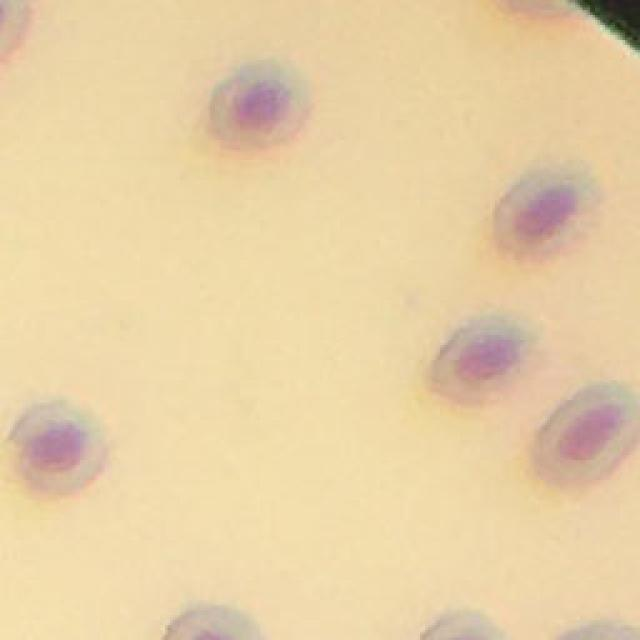RBC: (495, 162, 602, 260), (535, 385, 640, 484), (10, 402, 108, 495), (432, 315, 532, 405), (210, 60, 308, 146), (164, 608, 262, 640)
